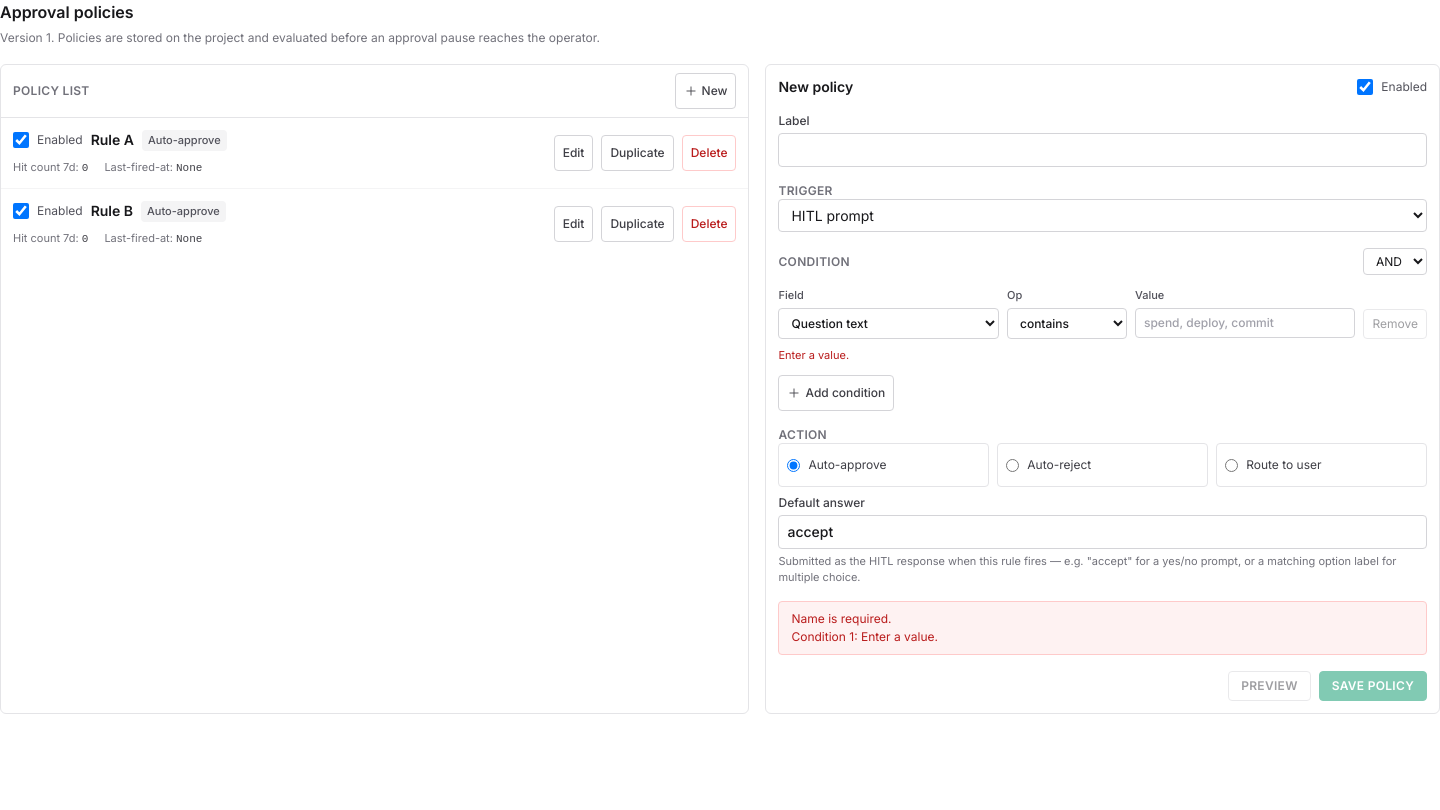
Test case: M1 — unsaved-draft guard › 'Keep editing' dismisses the guard without discarding the draft or running the action
This screenshot has width=1440, height=810.
Click the button "Edit" in the row of "Rule A": {"x": 574, "y": 153} top-left (554, 135), bottom-right (594, 171)
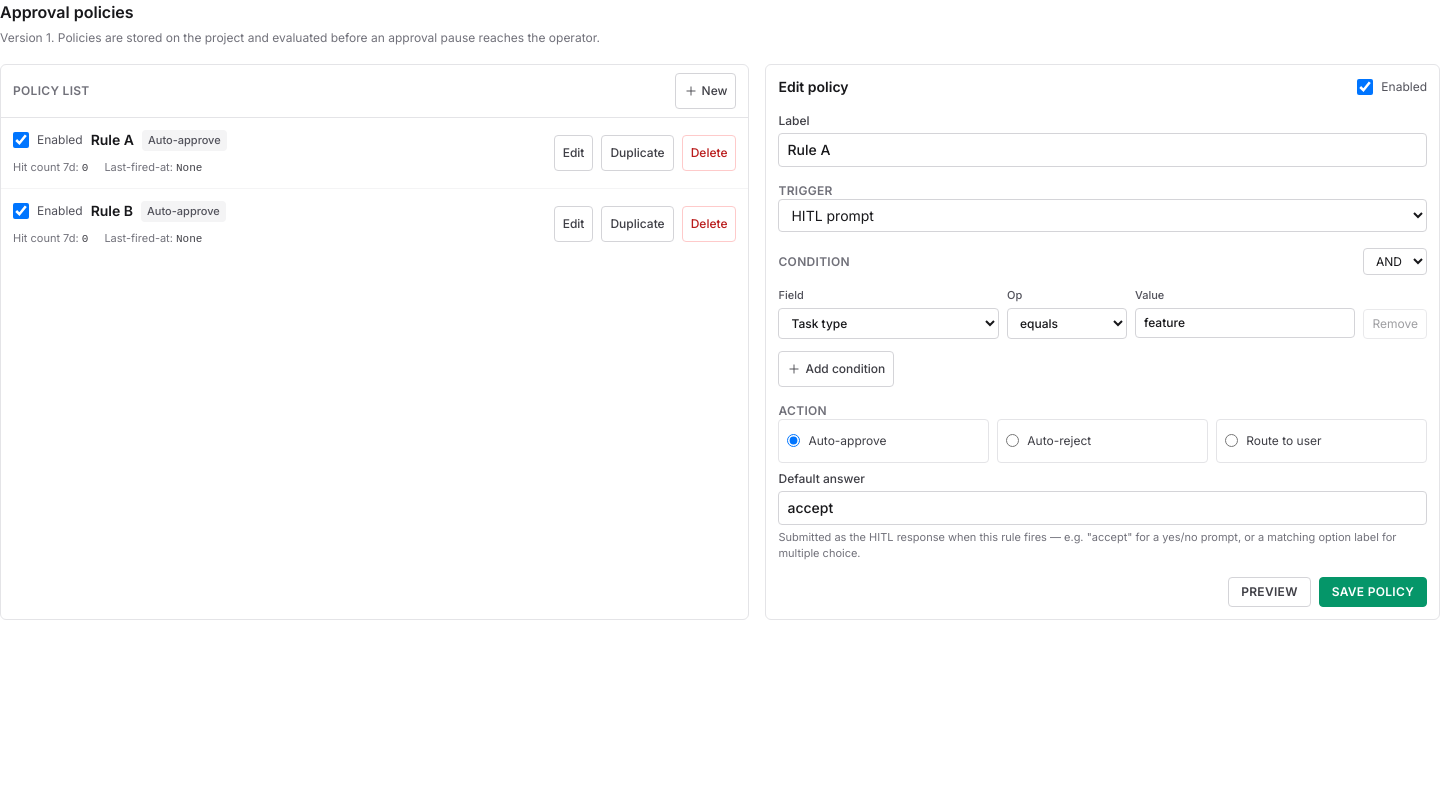
expect the heading "Edit policy" is shown: met, box top-left (778, 77), bottom-right (849, 97)
Click the button "Delete" in the row of "Rule B": {"x": 709, "y": 224} top-left (682, 206), bottom-right (736, 242)
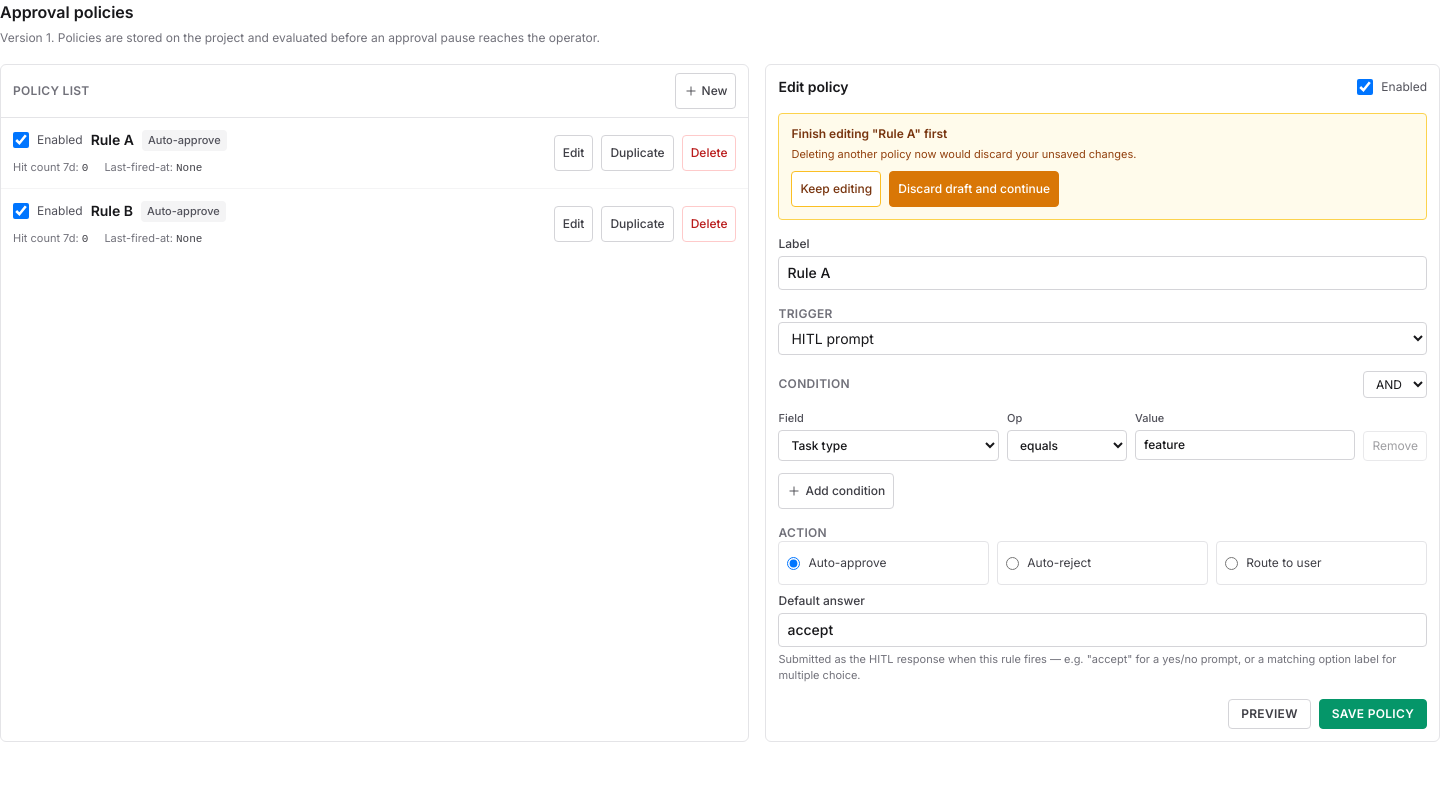
expect the text "Finish editing \"Rule A\" first" is shown: met, box top-left (792, 126), bottom-right (947, 141)
Click the button "Keep editing": {"x": 836, "y": 188} top-left (792, 170), bottom-right (881, 206)
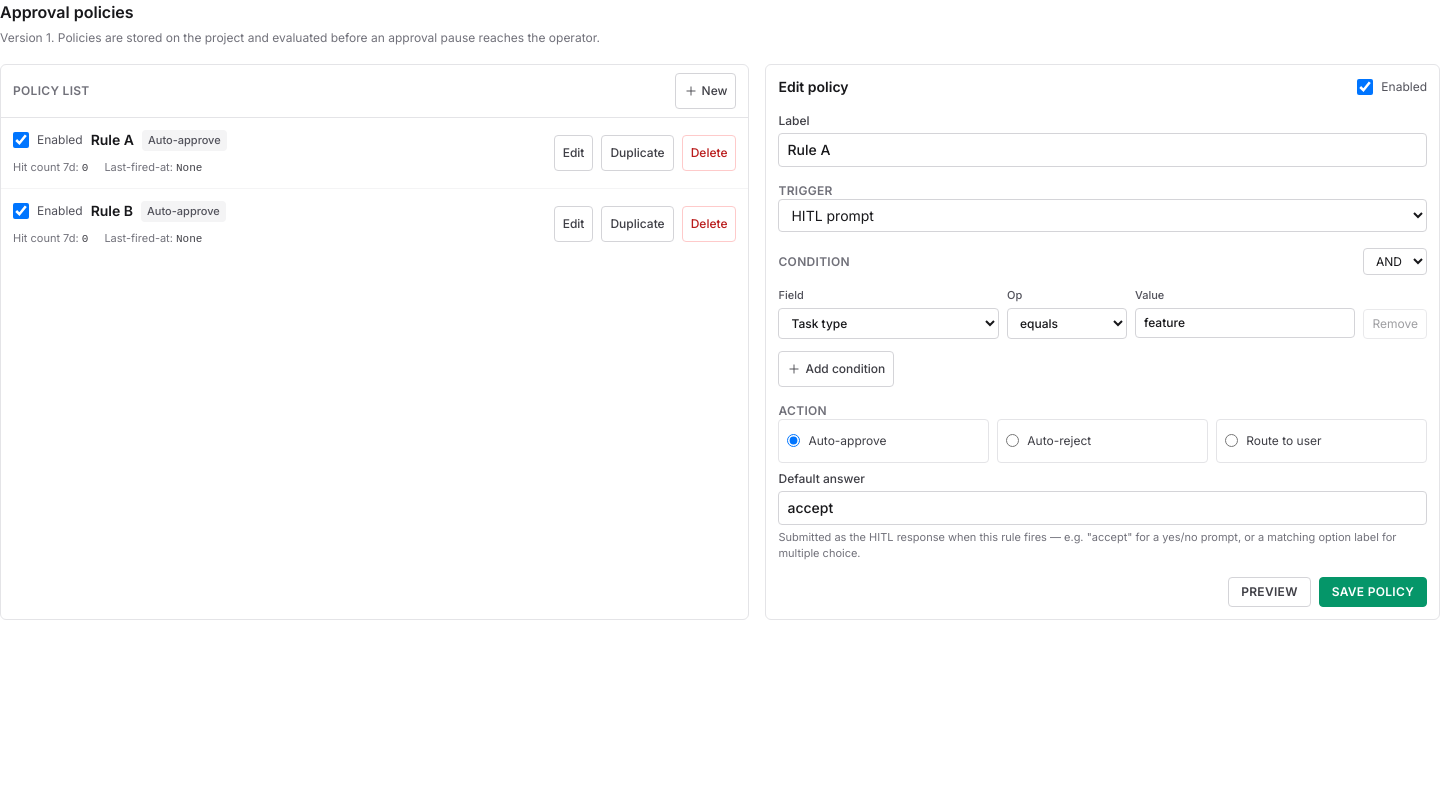
expect the heading "Edit policy" is shown: met, box top-left (778, 77), bottom-right (849, 97)
expect the text "Finish editing" is gone: met
